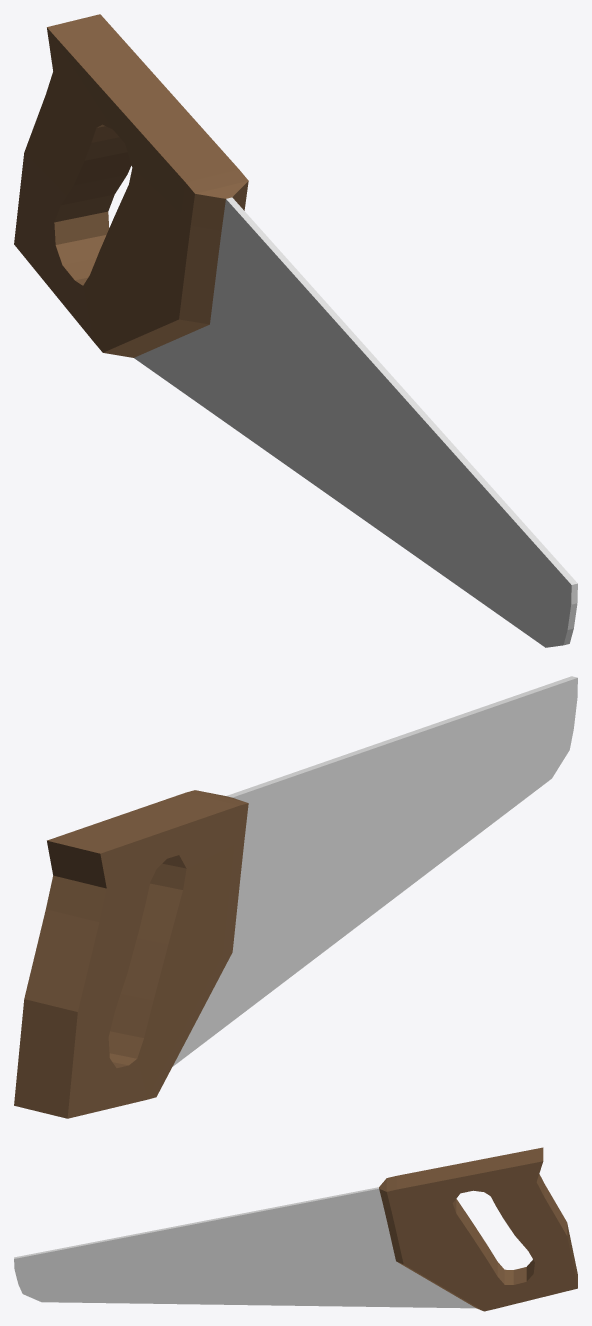
The model's file is Saw.fbx.
3 views of the same model, one above another, from view 1: azimuth 30°, elevation 25°; view 2: azimuth 150°, elevation 25°; view 3: azimuth 270°, elevation 25° (orthographic). The views are drawn at different scales.
Visible parts, largest first — view 1: Cube; view 2: Cube; view 3: Cube.
Boxes of the visible parts, x1,y1,x2,y2 form: Cube: (14, 14, 577, 647); Cube: (14, 676, 577, 1118); Cube: (14, 1147, 577, 1311).
Bounding box in the file's own units: 26.64 × 137 × 457.
